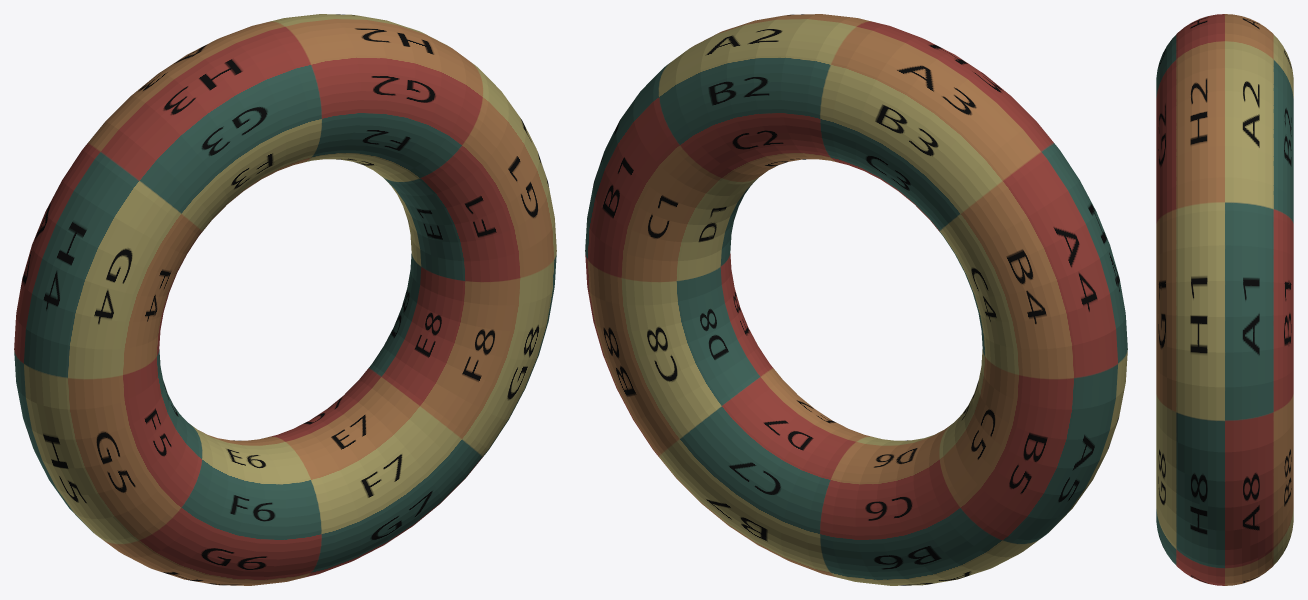
File: texture_torus_R21_r21.glb
The picture shows the model from 3 angles, left to right: view 1: azimuth 30°, elevation 25°; view 2: azimuth 150°, elevation 25°; view 3: azimuth 270°, elevation 25°; orthographic projection. The views are drawn at different scales.
Visible parts, largest first — view 1: world; view 2: world; view 3: world.
Part boxes in pixels (x1,y1,x2,y2): world: (14,14,556,585); world: (585,14,1127,585); world: (1156,14,1293,585).
Size of the model in its own units: 31.6 by 31.54 by 7.59.
1 material, 1 textured.
